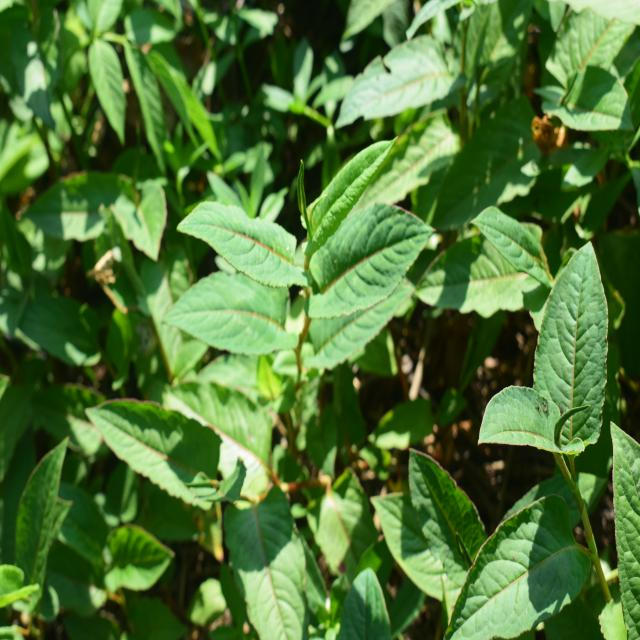Chinese_knotweed: (446, 255, 633, 634), (173, 139, 412, 389)
